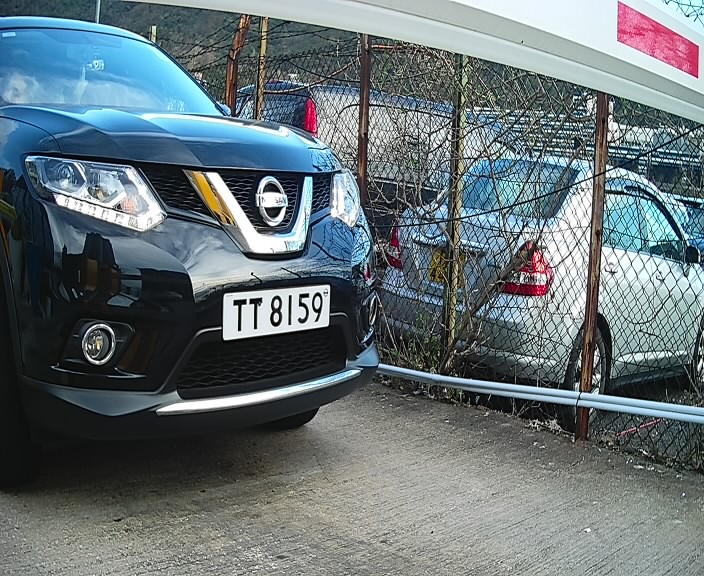License Plate: (210, 275, 341, 349)
